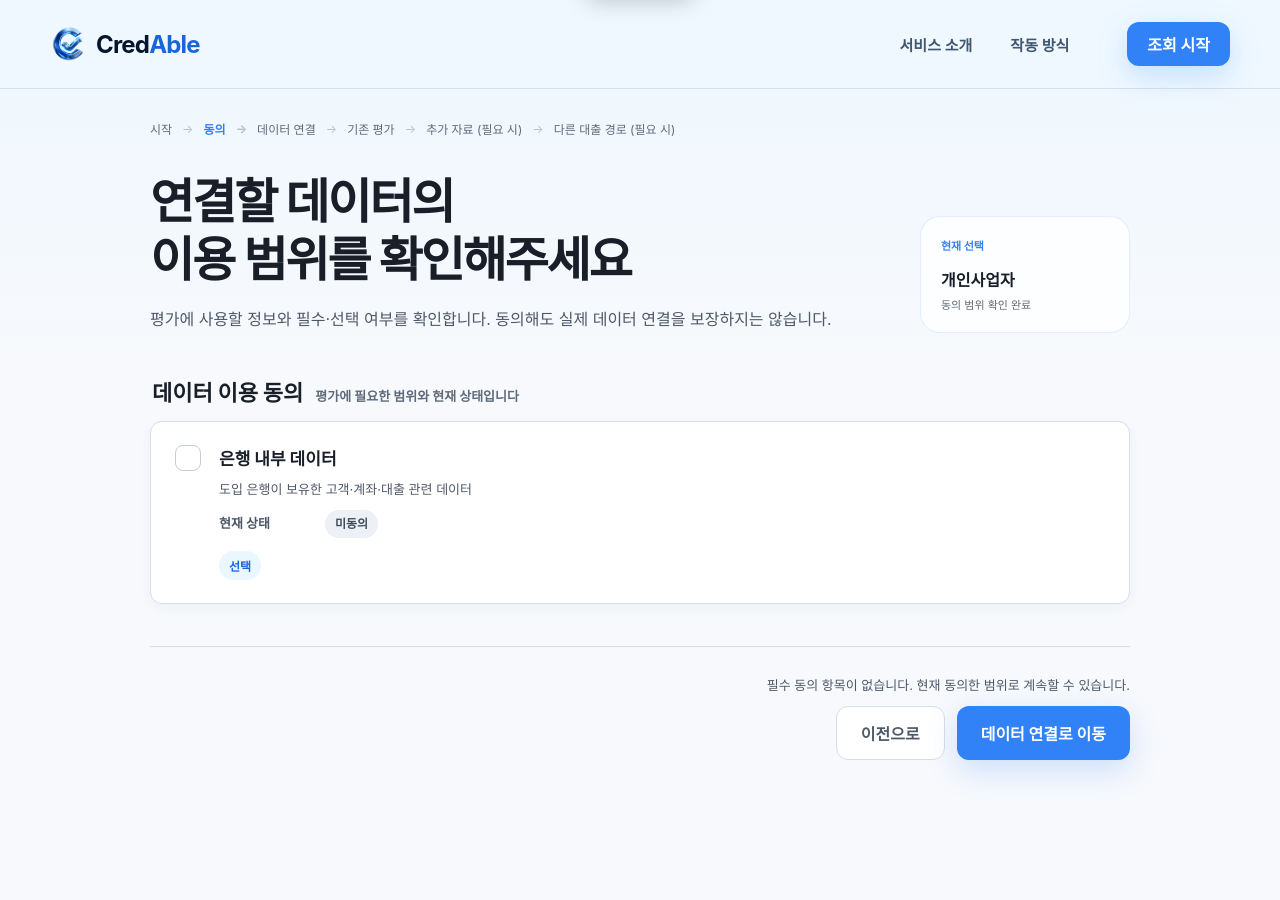
Scenario: ConsentPage › does not block progression when an optional consent update fails
This screenshot has width=1280, height=900.
Click the checkbox labelled "✓ 은행 내부 데이터 도입 은행이 보유한 고객·계좌·대출 관련 데이터 현재 상태 미동의 선택": (640, 513) left=150, top=421, right=1130, bottom=604
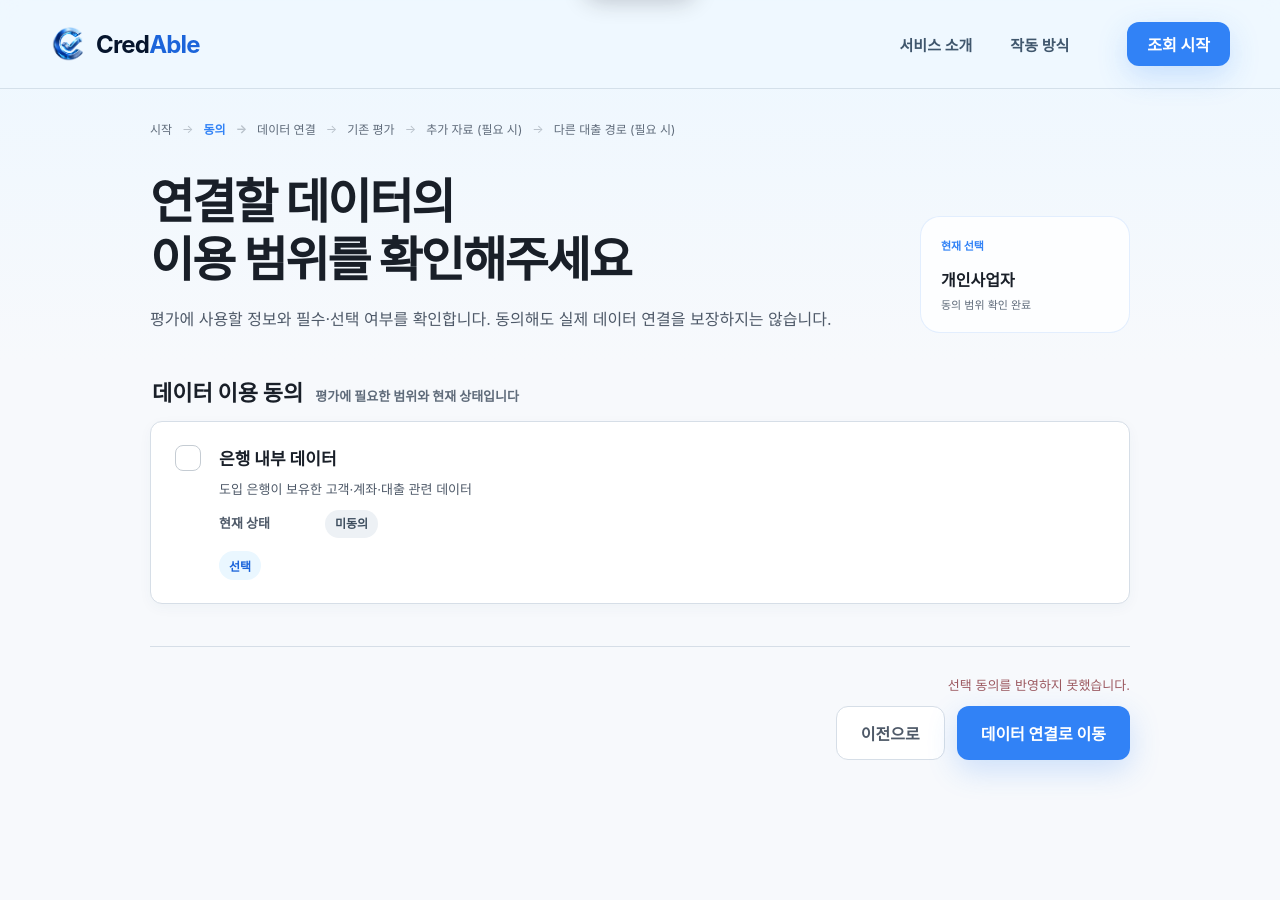
Expected: the button "데이터 연결로 이동" is enabled, left=957, top=706, right=1130, bottom=760
Expected: the message reads "선택 동의를 반영하지 못했습니다.", left=948, top=677, right=1130, bottom=693
